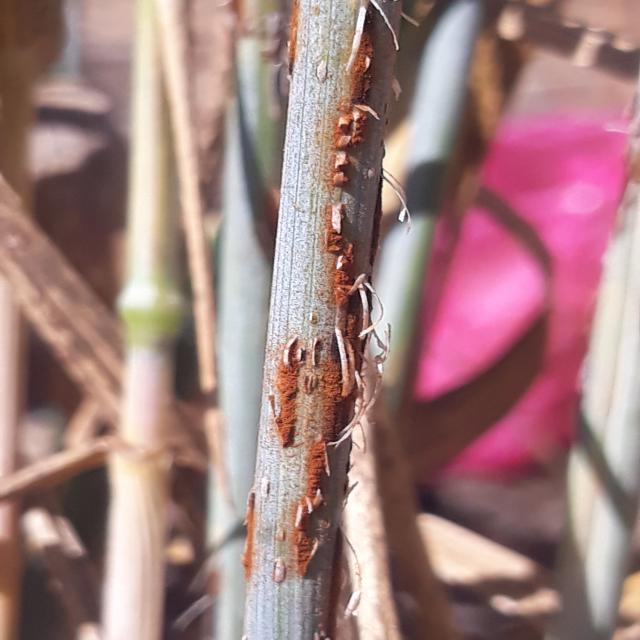black_stem_rust: (200, 0, 472, 640)
